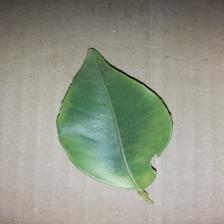greening: (49, 43, 177, 207)
